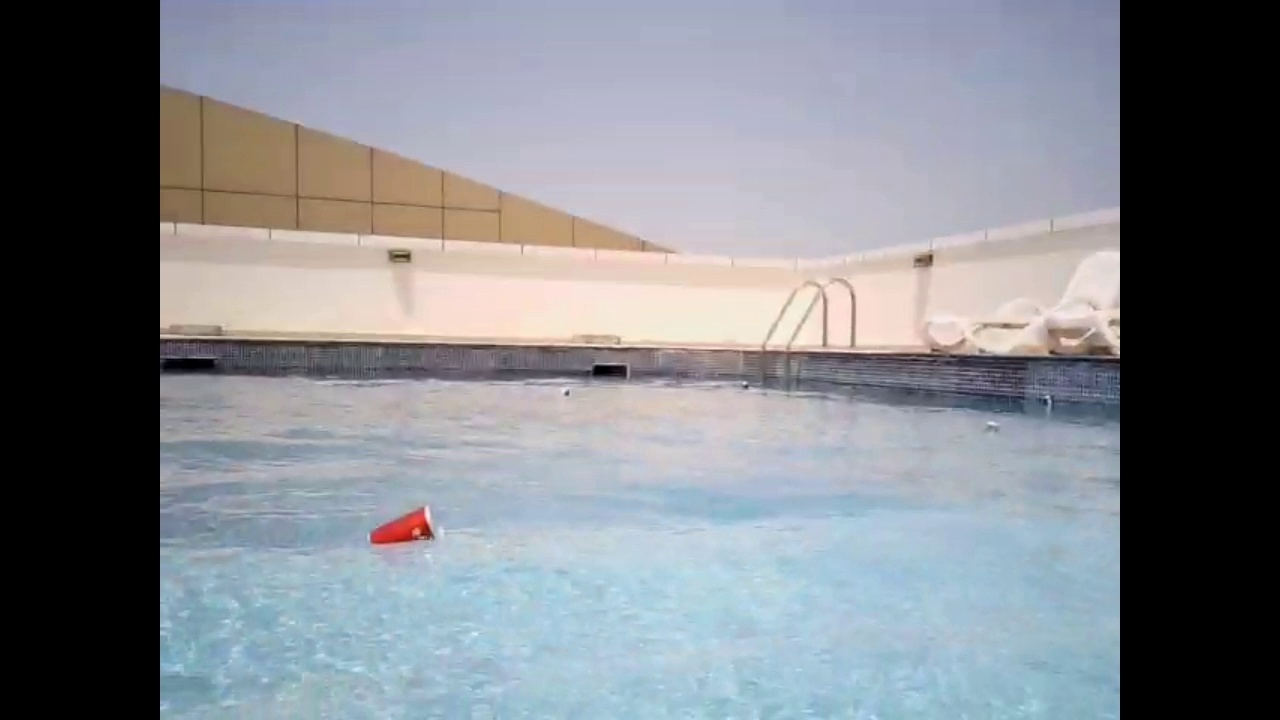debris: (357, 498, 449, 559), (1036, 391, 1058, 413), (980, 416, 1001, 438), (558, 385, 574, 402), (735, 378, 750, 393)
